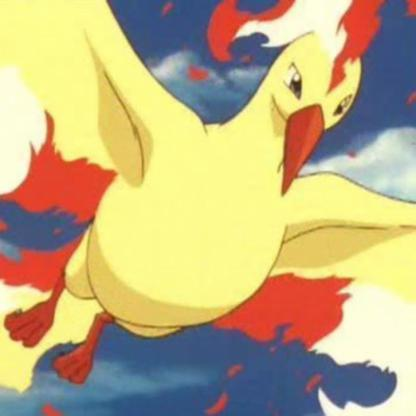Moltres: (1, 1, 416, 393)
